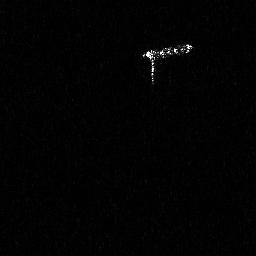ship: (140, 42, 195, 85)
